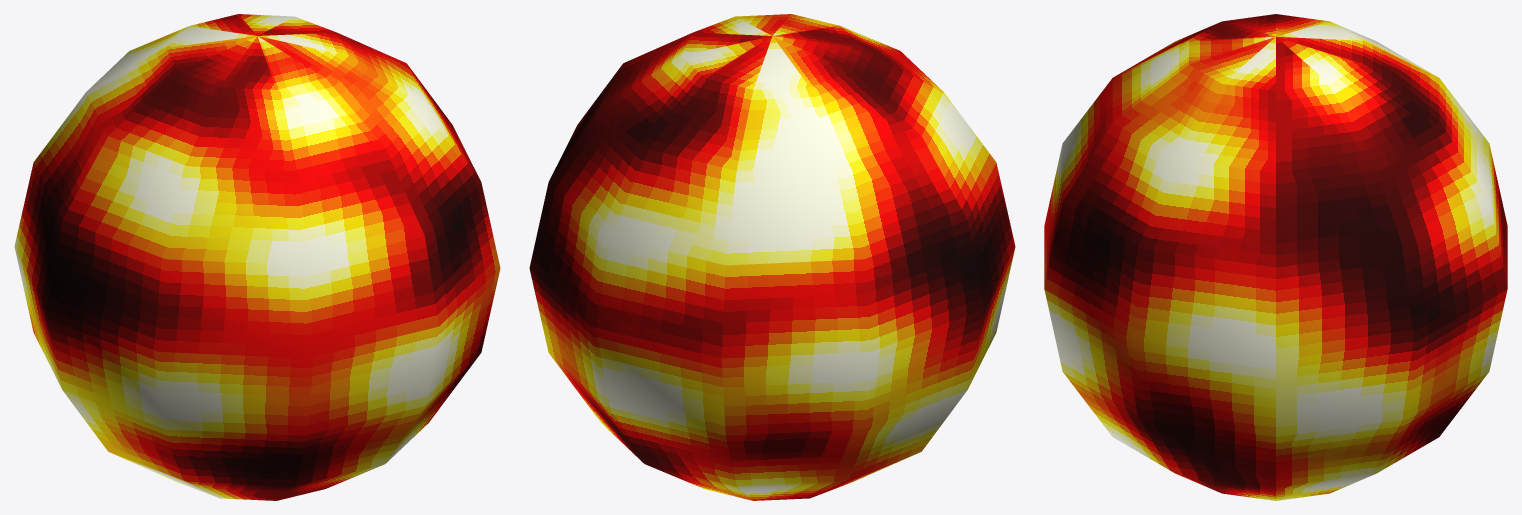
File: explosion.gltf
The picture shows the model from 3 angles, left to right: view 1: azimuth 30°, elevation 25°; view 2: azimuth 150°, elevation 25°; view 3: azimuth 270°, elevation 25°; orthographic projection.
Visible parts, largest first — view 1: m0; view 2: m0; view 3: m0.
Boxes of the visible parts, x1,y1,x2,y2 form: m0: (14,14,500,500); m0: (529,14,1015,500); m0: (1044,14,1507,500).
Size of the model in its own units: 0.64 by 0.64 by 0.6087.
Materials: 1 (1 with a texture image).
